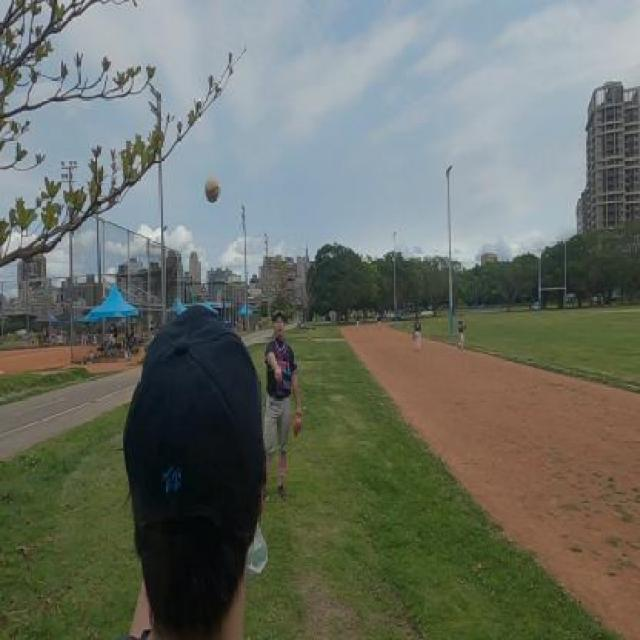baseball: (205, 175, 220, 203)
